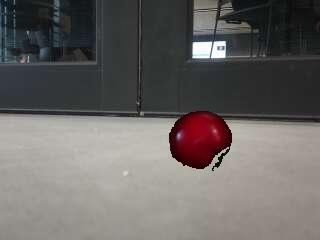Tomato: (170, 110, 234, 172)
